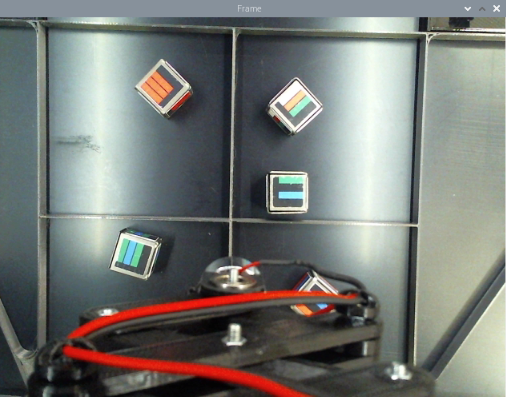Cube: (261, 73, 329, 138), (131, 55, 193, 118), (103, 226, 165, 279), (263, 167, 310, 219)
